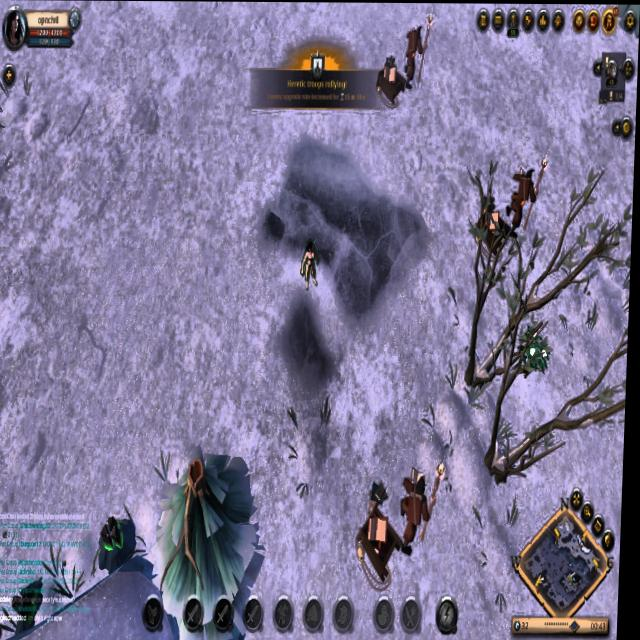mob: (403, 458, 448, 554), (506, 153, 549, 231), (402, 7, 432, 90)
tin_ore: (96, 514, 148, 572)
